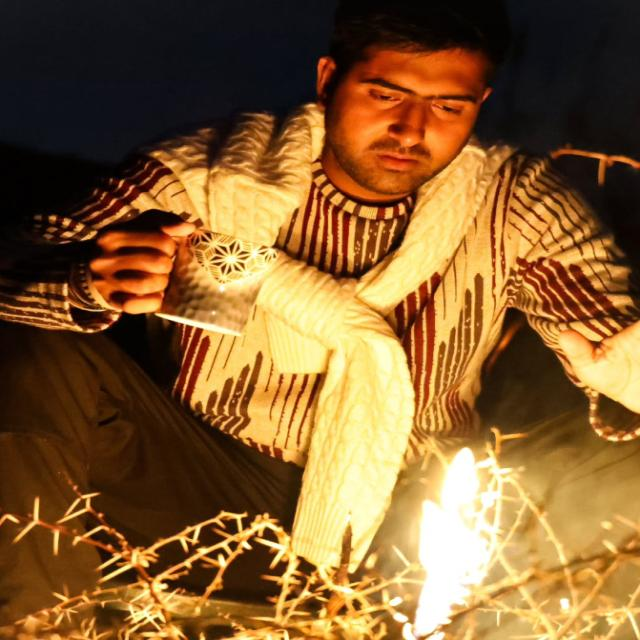fire: (404, 446, 493, 640)
